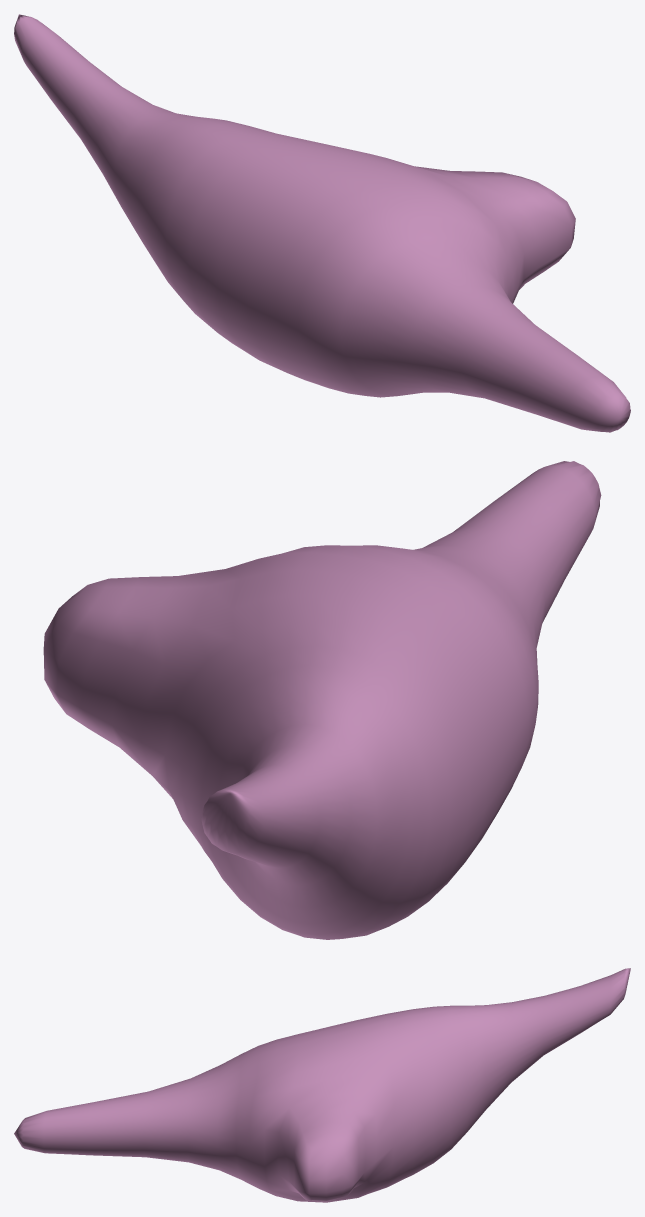
The picture shows the model from 3 angles, top to bottom: view 1: azimuth 30°, elevation 25°; view 2: azimuth 150°, elevation 25°; view 3: azimuth 270°, elevation 25°; orthographic projection. The views are drawn at different scales.
Visible parts, largest first — view 1: 左侧前庭神经核; view 2: 左侧前庭神经核; view 3: 左侧前庭神经核.
Boxes of the visible parts, bbox=[...] form: 左侧前庭神经核: bbox=[14, 14, 630, 432]; 左侧前庭神经核: bbox=[43, 461, 601, 939]; 左侧前庭神经核: bbox=[14, 968, 630, 1202].
Size of the model in its own units: 0.00958 by 0.00642 by 0.0202.
